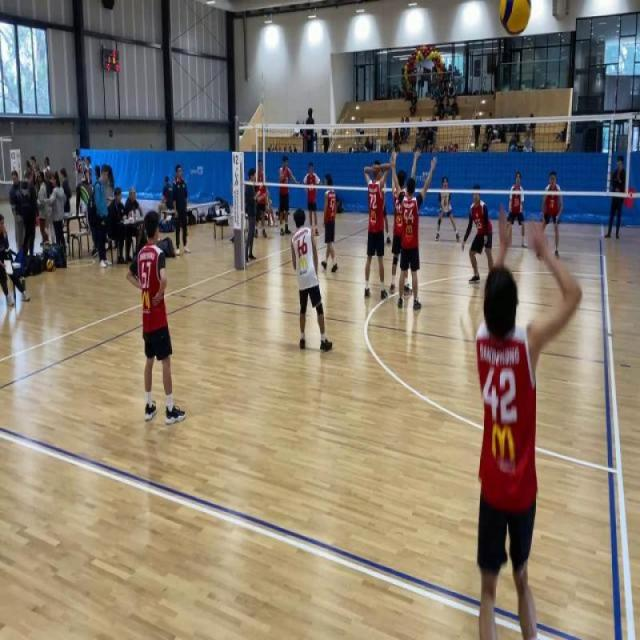volleyball: (498, 0, 532, 37), (46, 258, 55, 272), (187, 227, 190, 236), (158, 237, 162, 242)
